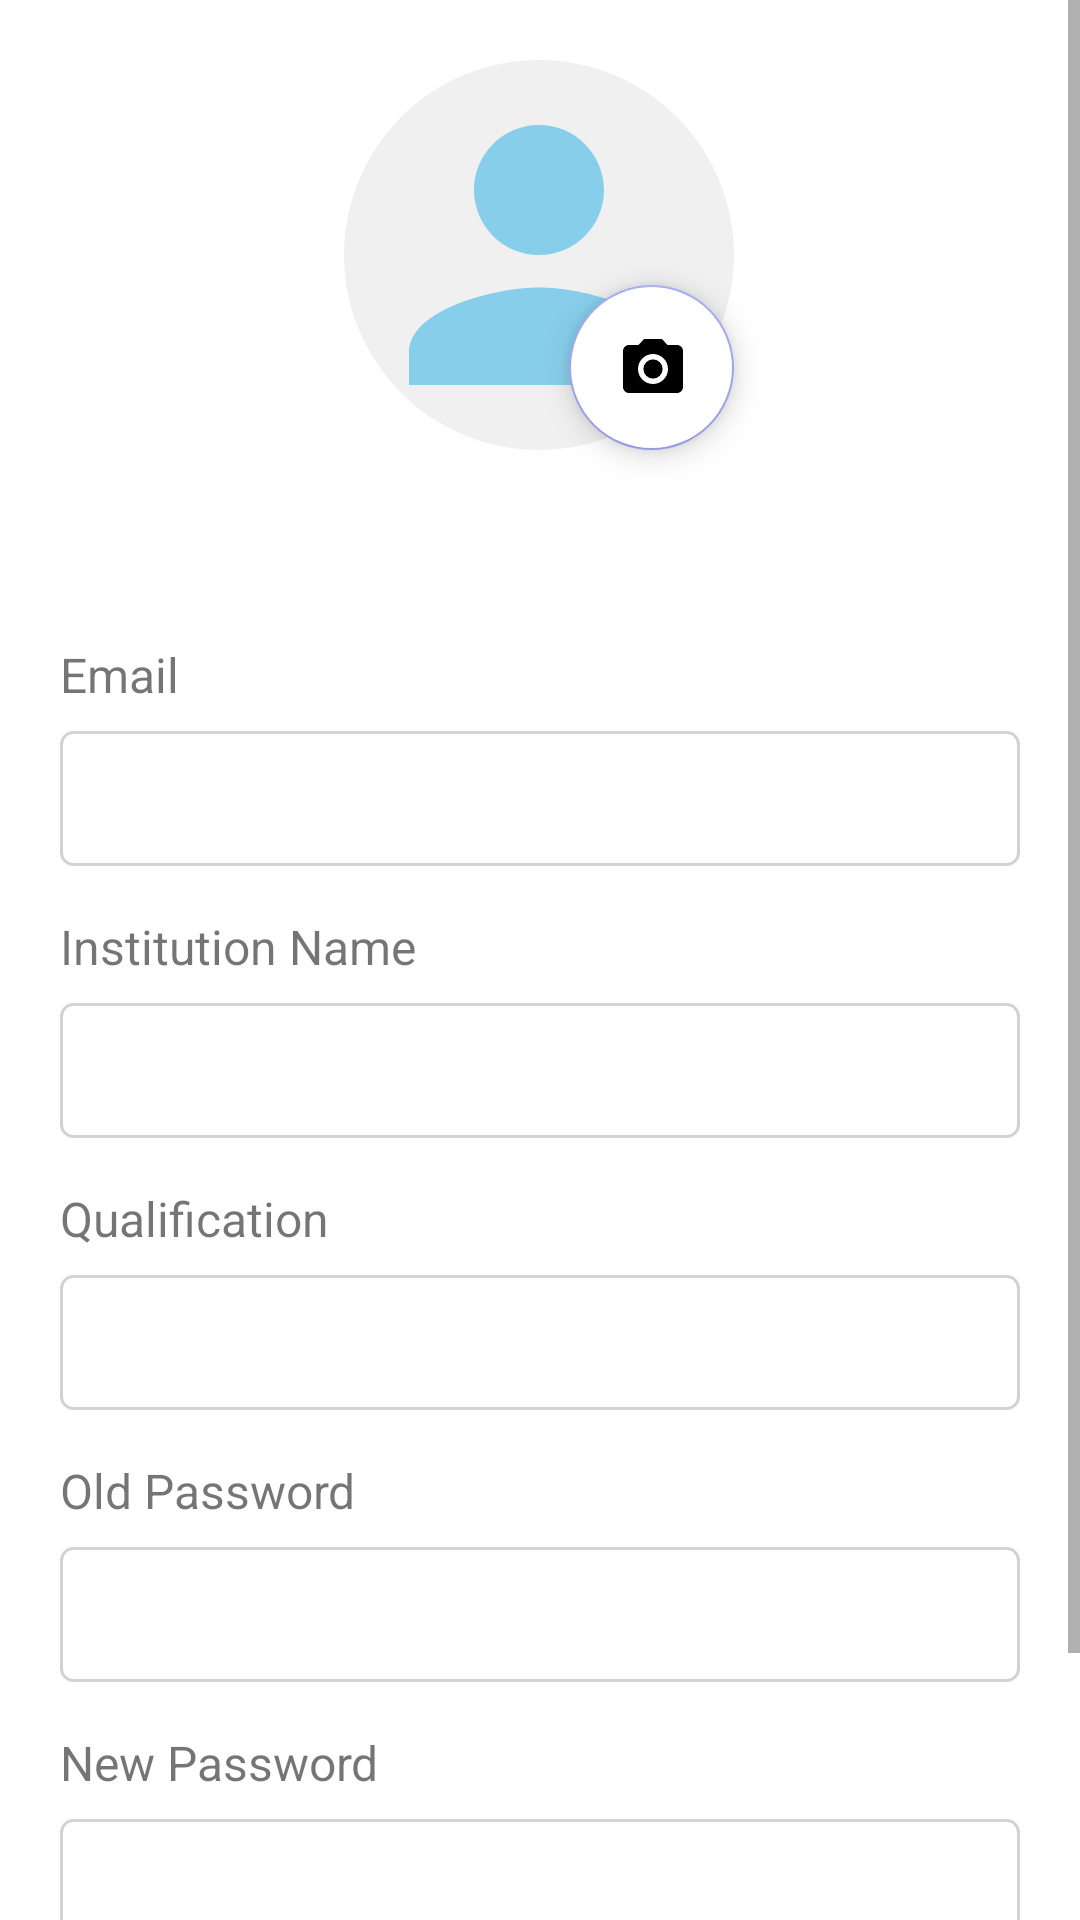

Where to tap for icons on this 1080×1920 app screen, as (x=x, y=y):
camera upload photo: (x=653, y=366)
